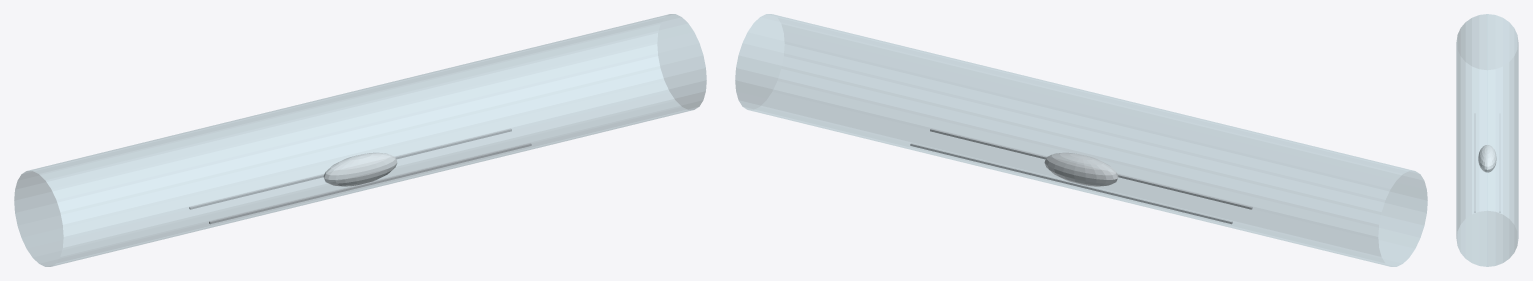
Rendered from reef-tube.glb.
3 renders of one model, left to right at view 1: azimuth 30°, elevation 25°; view 2: azimuth 150°, elevation 25°; view 3: azimuth 270°, elevation 25°, orthographic. The views are drawn at different scales.
Visible parts, largest first — view 1: Cylinder.007, Cube.004, Sphere.003; view 2: Cylinder.007, Cube.004, Sphere.003; view 3: Cylinder.007, Sphere.003, Cube.004.
Part boxes in pixels (left/top/right/bottom): Cylinder.007: left=14, top=14, right=706, bottom=266; Cube.004: left=189, top=128, right=531, bottom=224; Sphere.003: left=323, top=152, right=397, bottom=186; Cylinder.007: left=735, top=14, right=1427, bottom=266; Cube.004: left=910, top=128, right=1252, bottom=224; Sphere.003: left=1044, top=152, right=1118, bottom=186; Cylinder.007: left=1456, top=14, right=1518, bottom=266; Sphere.003: left=1478, top=145, right=1496, bottom=172; Cube.004: left=1474, top=113, right=1500, bottom=212.
Size of the model in its own units: 60 by 8 by 8.
